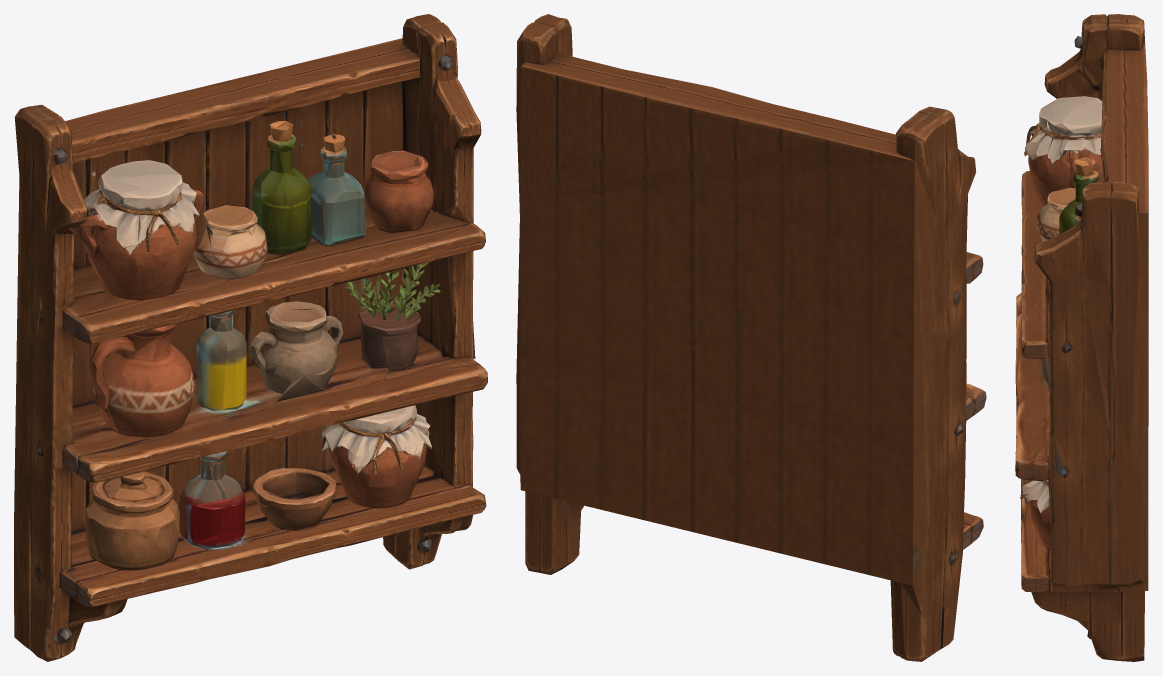
The model's file is a-wooden-wall-shelf-with-clay-jars.glb.
3 views of the same model, side by side, from view 1: azimuth 30°, elevation 25°; view 2: azimuth 150°, elevation 25°; view 3: azimuth 270°, elevation 25° (orthographic). The views are drawn at different scales.
Size of the model in its own units: 1.56 by 1.9 by 0.4794.
1 material, 1 textured.
